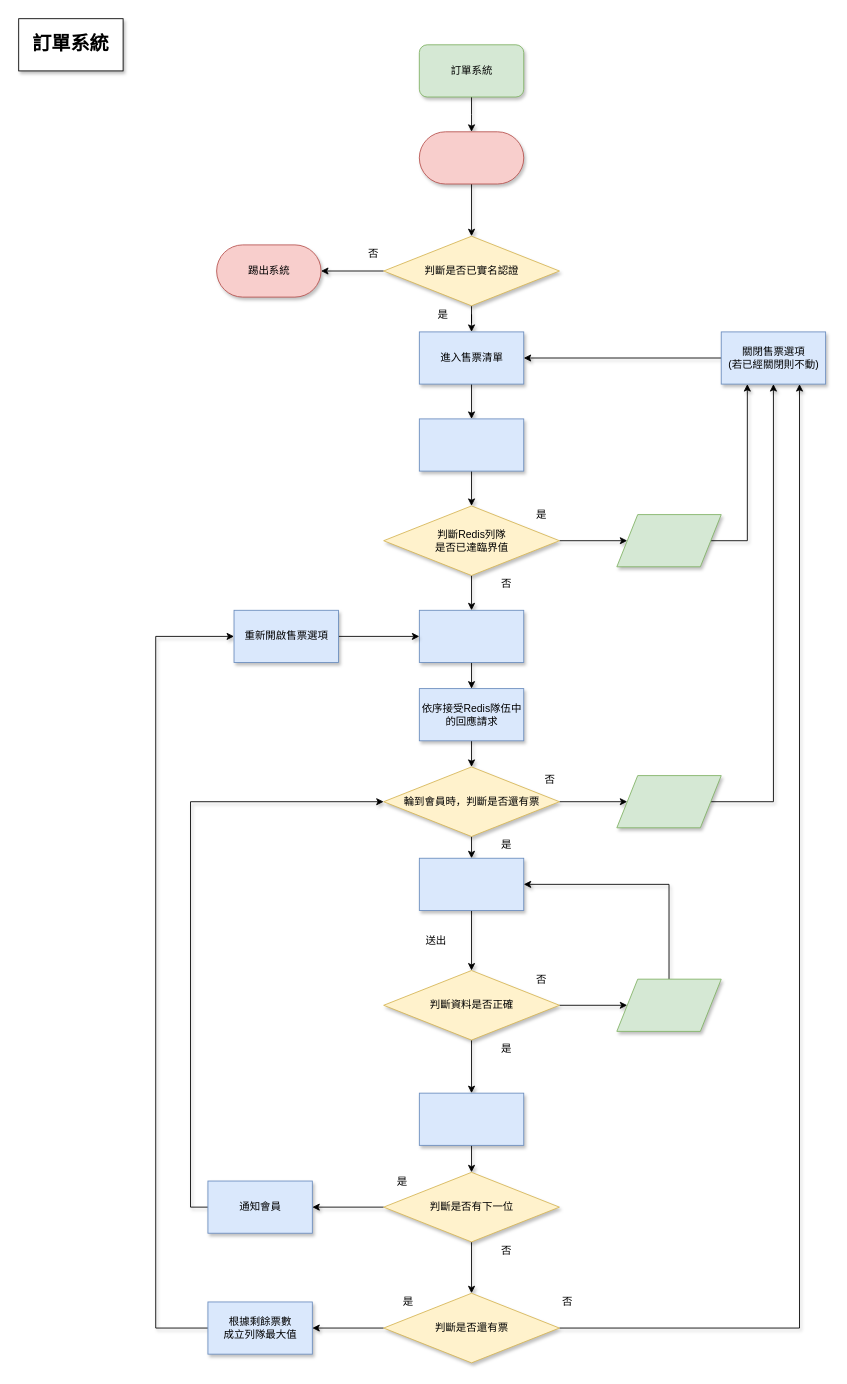
This 847x1384 diagram has some shape labels left out. Here are the shapes that lost their labels. From the top down, the centre of each, then its label:
At point 472,158: "進入系統".
At point 472,446: "選擇票卷".
At point 669,541: "向會員輸出 列隊已滿".
At point 472,637: "將會員存進Redis排隊".
At point 669,802: "向會員輸出 票已售罄".
At point 472,885: "傳送至填單處".
At point 669,1006: "向會員輸出 資料有誤".
At point 472,1120: "傳送訊號給系統，通知下一位排隊會員。".
